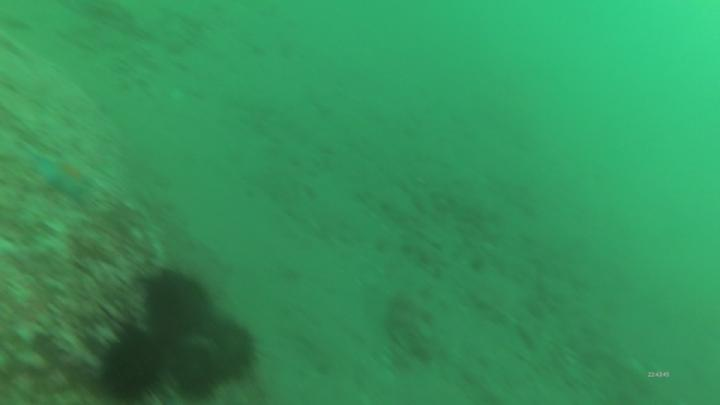echinus: (140, 270, 219, 349), (97, 324, 167, 401), (197, 319, 259, 390), (165, 340, 220, 400)
starfish: (28, 150, 102, 210)
